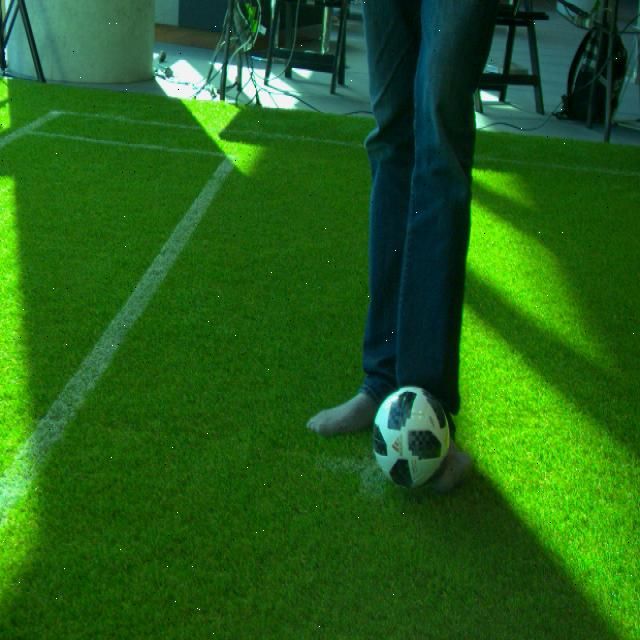ball: (371, 386, 450, 490)
